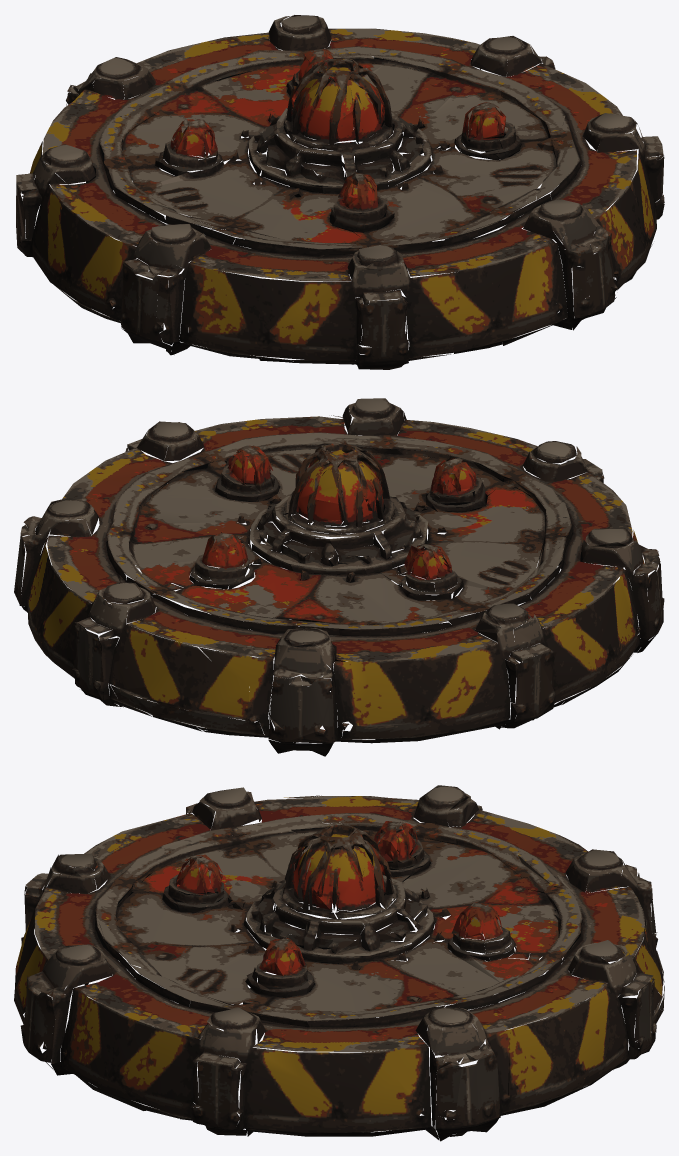
File: mine.glb
3 views of the same model, one above another, from view 1: azimuth 30°, elevation 25°; view 2: azimuth 150°, elevation 25°; view 3: azimuth 270°, elevation 25° (orthographic). The views are drawn at different scales.
Visible parts, largest first — view 1: mine; view 2: mine; view 3: mine.
Part boxes in pixels (x1,y1,x2,y2): mine: (16,15,664,369); mine: (14,398,664,756); mine: (14,785,664,1141).
Size of the model in its own units: 0.6003 by 0.1941 by 0.6003.
1 material, 1 textured.
